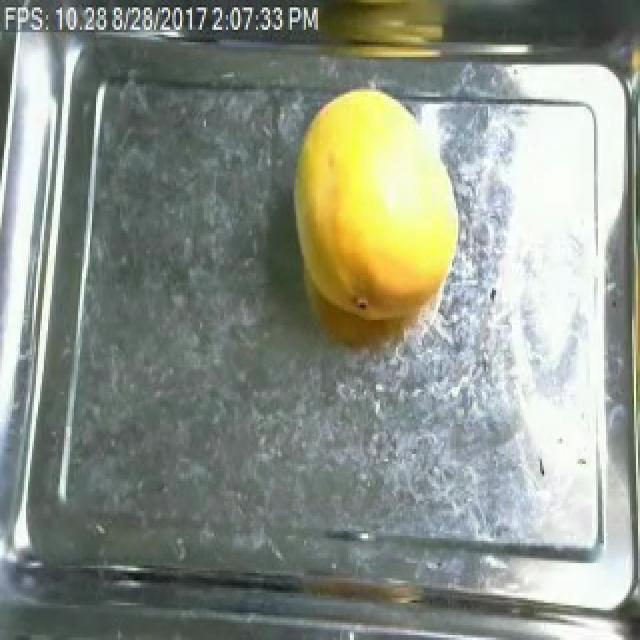fruit: (280, 82, 470, 332)
